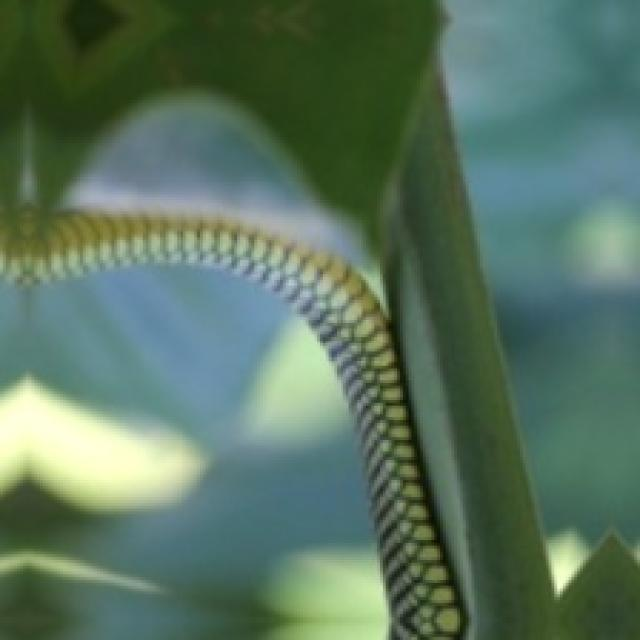paradise tree snake: (0, 211, 463, 637)
